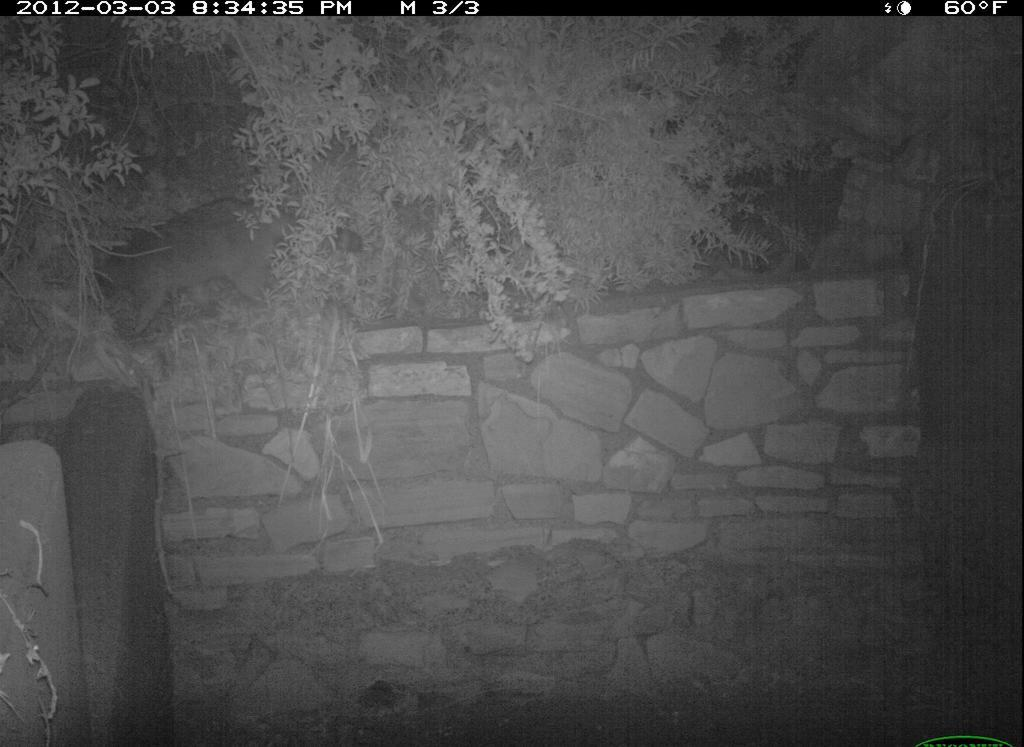raccoon: (72, 190, 355, 364)
